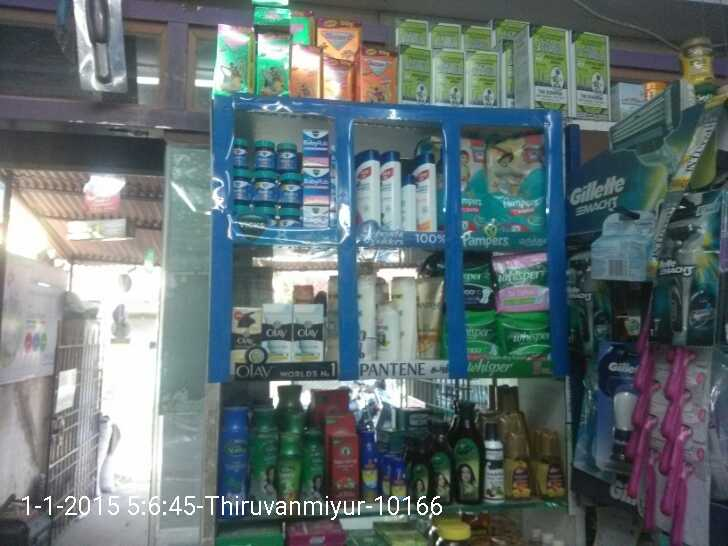vicks: (232, 118, 332, 230)
